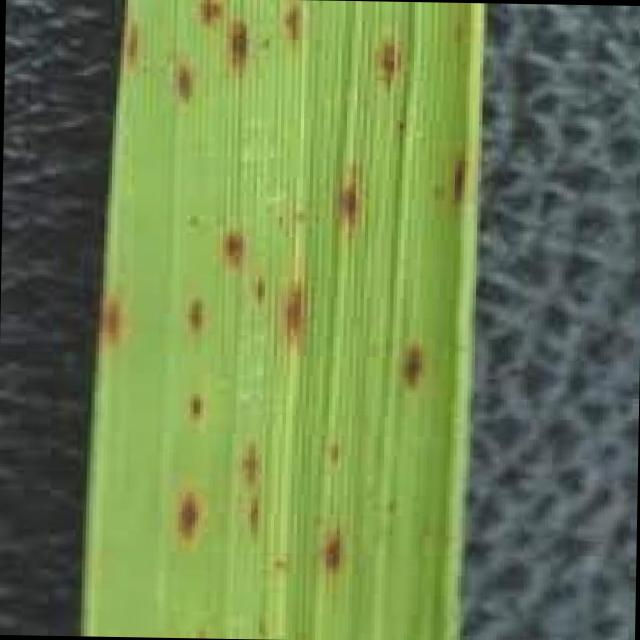Rice_Brownspot: (322, 151, 389, 228), (382, 327, 432, 400), (357, 25, 411, 88), (309, 519, 363, 577), (199, 218, 256, 268), (164, 478, 205, 546), (85, 285, 129, 346), (273, 274, 311, 344), (228, 431, 268, 494), (158, 49, 200, 107), (441, 138, 468, 214), (209, 13, 250, 61), (274, 0, 312, 47), (117, 6, 144, 64), (314, 429, 348, 470), (179, 378, 207, 426), (178, 290, 205, 332), (240, 268, 268, 300), (190, 0, 223, 23)
